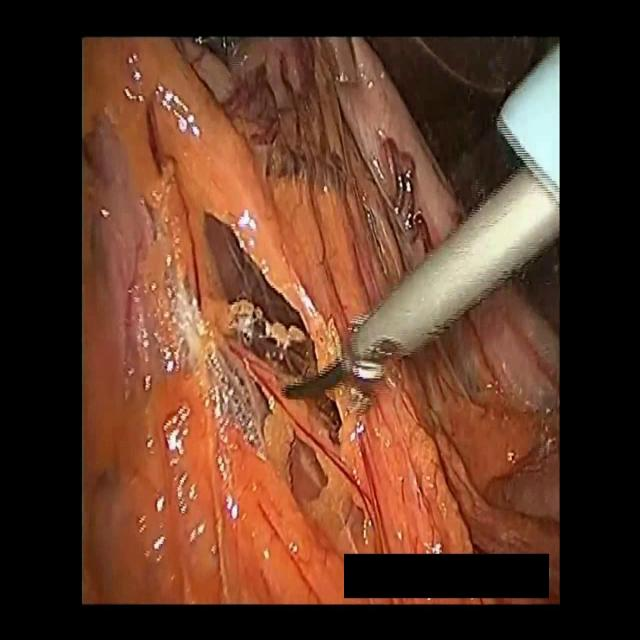surgical-area: (82, 42, 562, 605)
surgical-tool: (288, 40, 562, 404)
